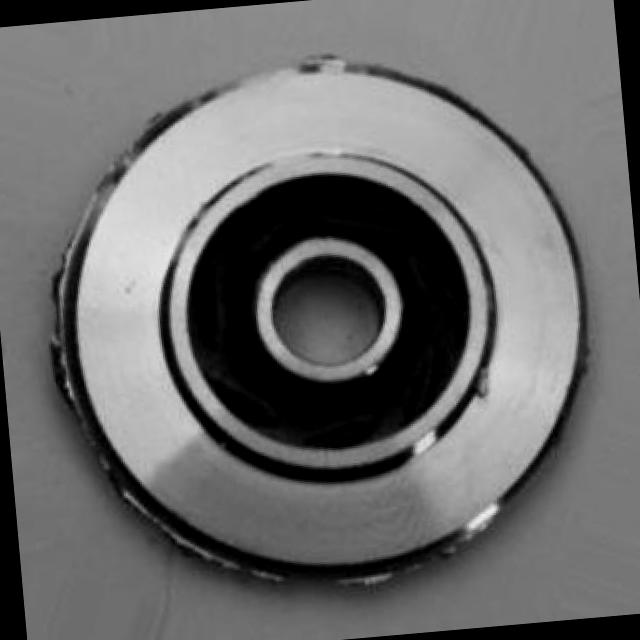Defect: (123, 478, 225, 592)
